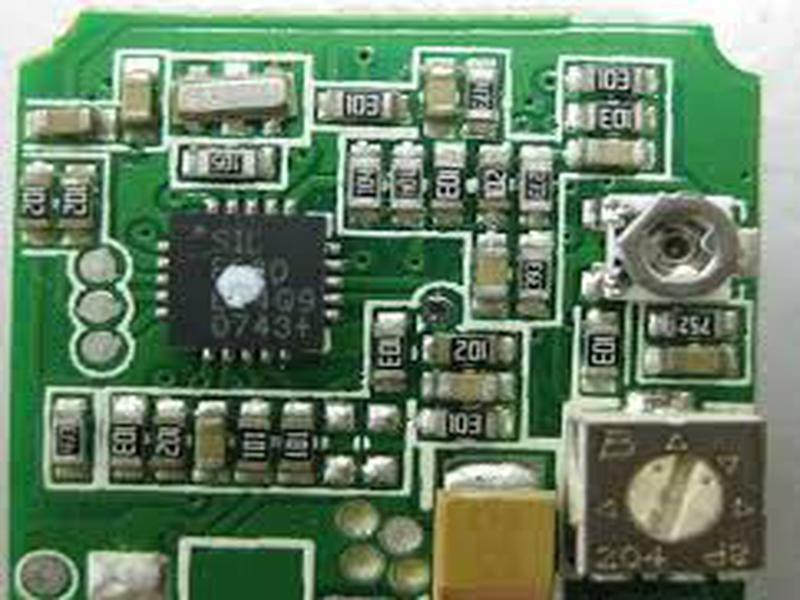SMD capacitor: (426, 369, 515, 406), (642, 342, 734, 377), (190, 402, 234, 475), (121, 61, 158, 139), (420, 56, 460, 123), (24, 107, 105, 140)
SMD resistor: (571, 63, 656, 105), (185, 143, 274, 182), (649, 305, 735, 342), (569, 99, 647, 139), (323, 85, 400, 122), (278, 408, 316, 480), (20, 163, 55, 238), (466, 58, 503, 126), (150, 405, 186, 472), (423, 409, 498, 440), (374, 312, 405, 387), (587, 316, 621, 384), (61, 166, 97, 230), (432, 148, 465, 216), (434, 336, 503, 368), (52, 402, 84, 471), (481, 147, 512, 216), (350, 146, 379, 219), (518, 242, 550, 306), (240, 408, 270, 474), (112, 405, 141, 471), (523, 155, 553, 214), (392, 153, 423, 209)
